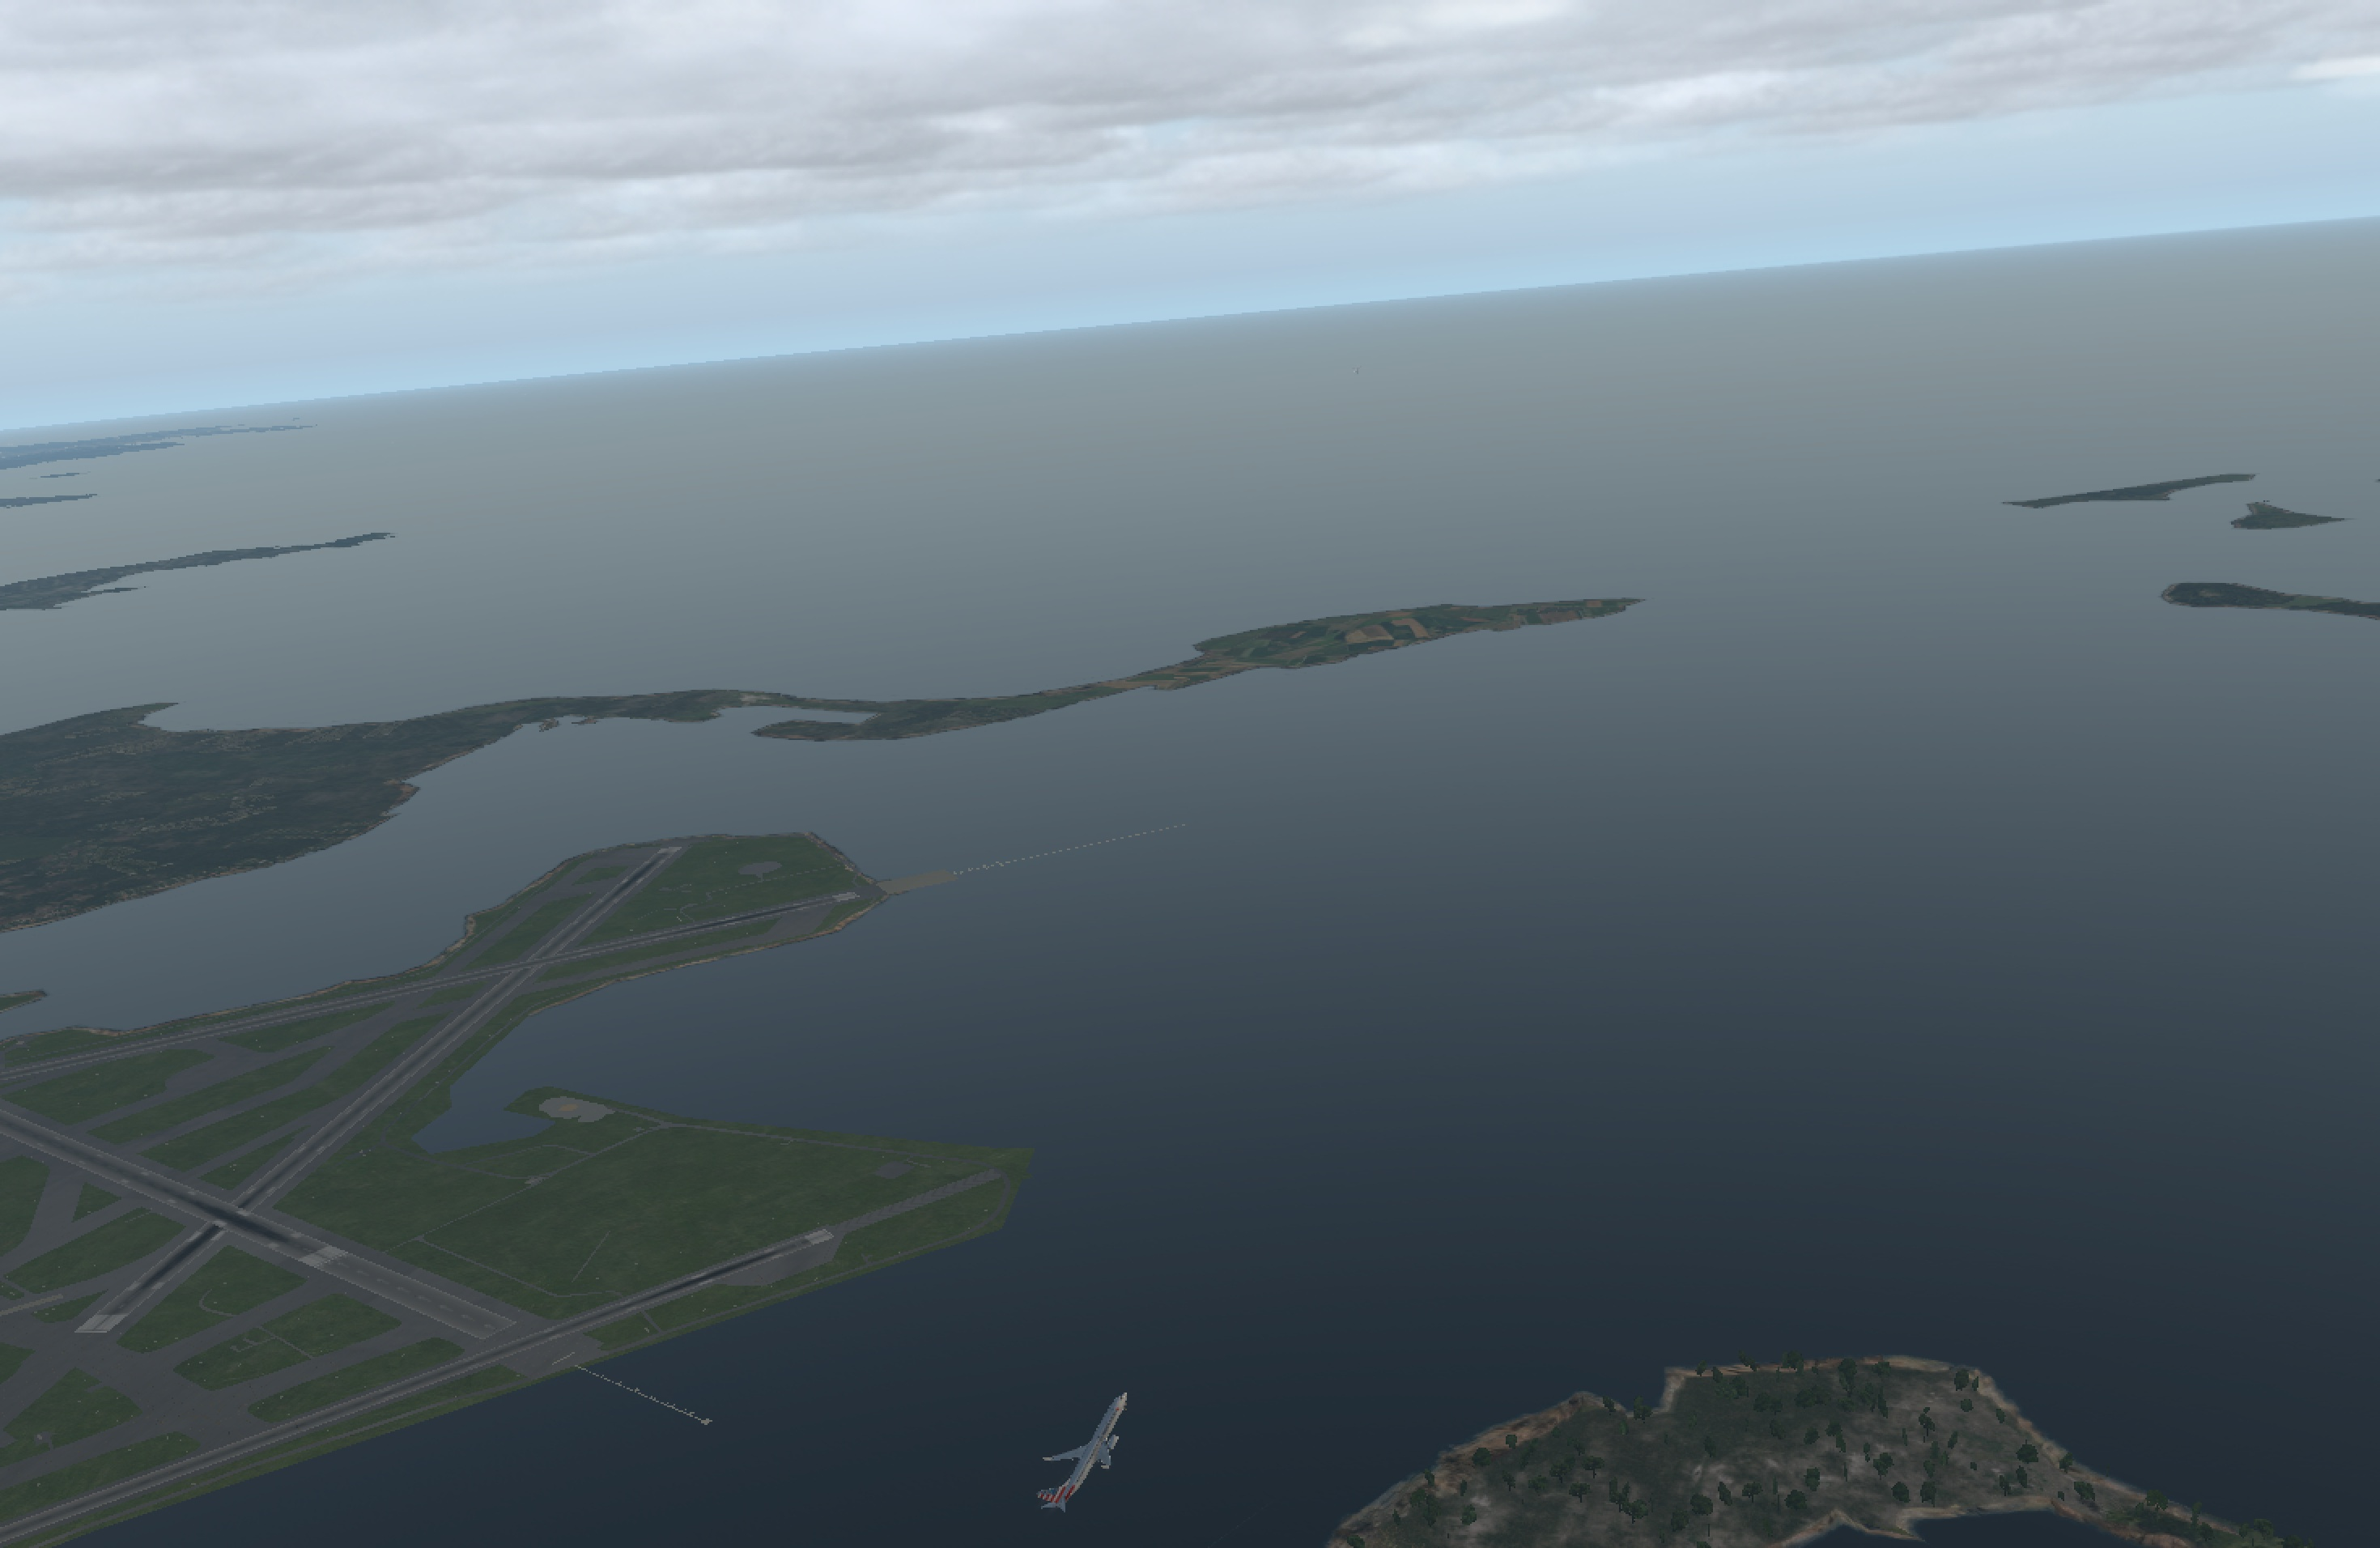aircraft: (1032, 1425, 1161, 1473)
